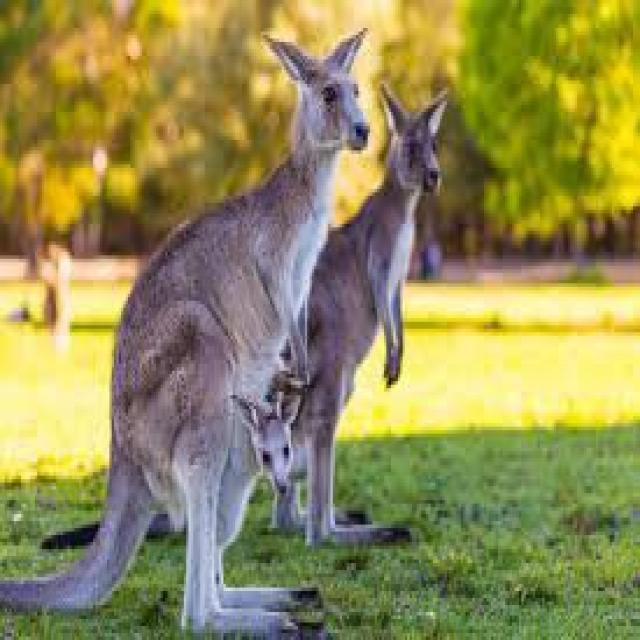Kangaroo: (3, 20, 380, 640), (39, 77, 464, 558), (228, 385, 317, 505)
